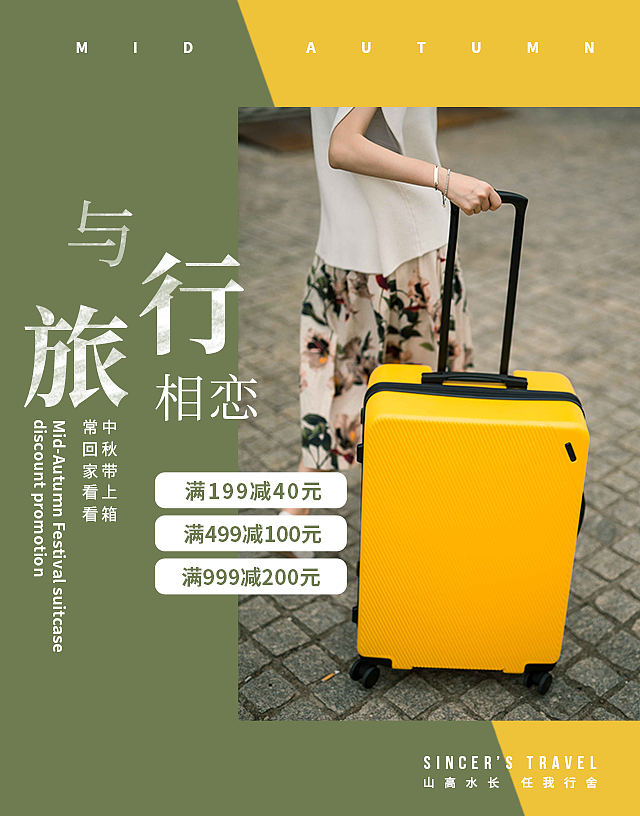box: (356, 364, 588, 672)
handle: (421, 372, 528, 390)
wheel: (349, 658, 380, 690), (524, 671, 552, 696)
